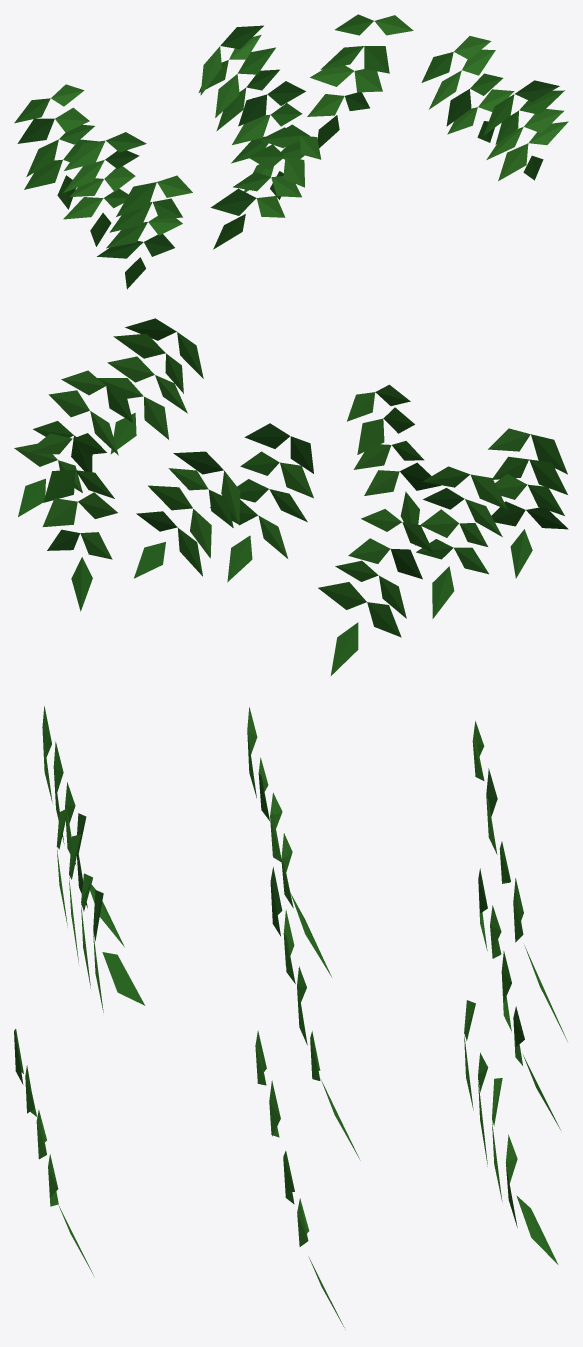
3 views of the same model, one above another, from view 1: azimuth 30°, elevation 25°; view 2: azimuth 150°, elevation 25°; view 3: azimuth 270°, elevation 25° (orthographic). The views are drawn at different scales.
Visible parts, largest first — view 1: r18c0_l01; view 2: r18c0_l01; view 3: r18c0_l01.
Part boxes in pixels (box(x1,y1,x2,y2)): r18c0_l01: box(14, 14, 568, 289); r18c0_l01: box(14, 318, 568, 675); r18c0_l01: box(14, 706, 567, 1329).
Bounding box in the file's own units: 1.55 × 0.5129 × 0.837.
